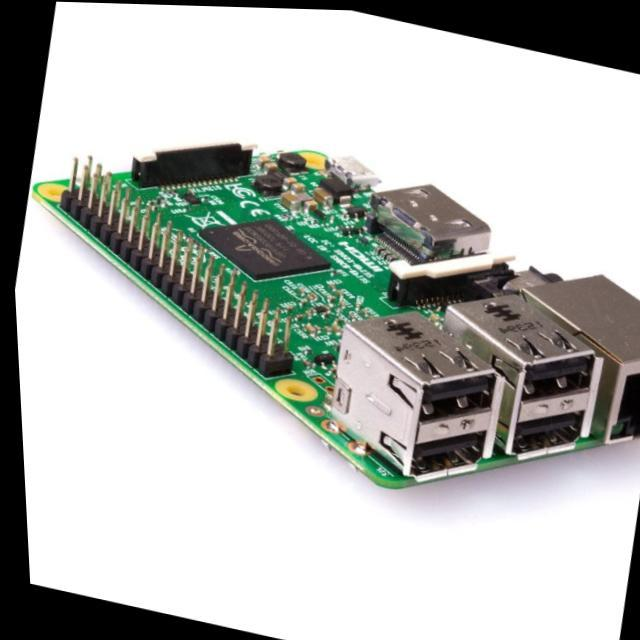Raspberry-Pi-3-B: (35, 146, 640, 482)
